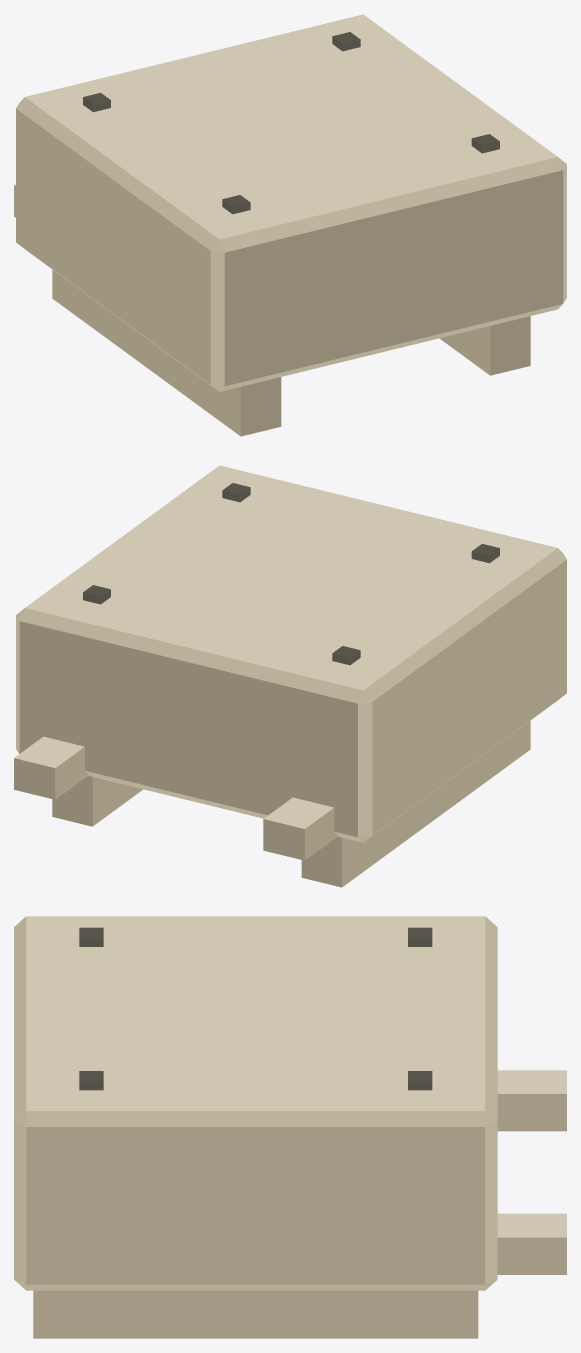
The model's file is ERA_M3_FRONT_3_2.glb.
The picture shows the model from 3 angles, top to bottom: view 1: azimuth 30°, elevation 25°; view 2: azimuth 150°, elevation 25°; view 3: azimuth 270°, elevation 25°; orthographic projection. The views are drawn at different scales.
Visible parts, largest first — view 1: ERA_M3_FRONT_3_2.001; view 2: ERA_M3_FRONT_3_2.001; view 3: ERA_M3_FRONT_3_2.001.
Boxes of the visible parts, x1,y1,x2,y2 form: ERA_M3_FRONT_3_2.001: [14, 14, 566, 436]; ERA_M3_FRONT_3_2.001: [14, 465, 566, 887]; ERA_M3_FRONT_3_2.001: [14, 916, 566, 1338].
Bounding box in the file's own units: 0.318 × 0.1815 × 0.3625.
